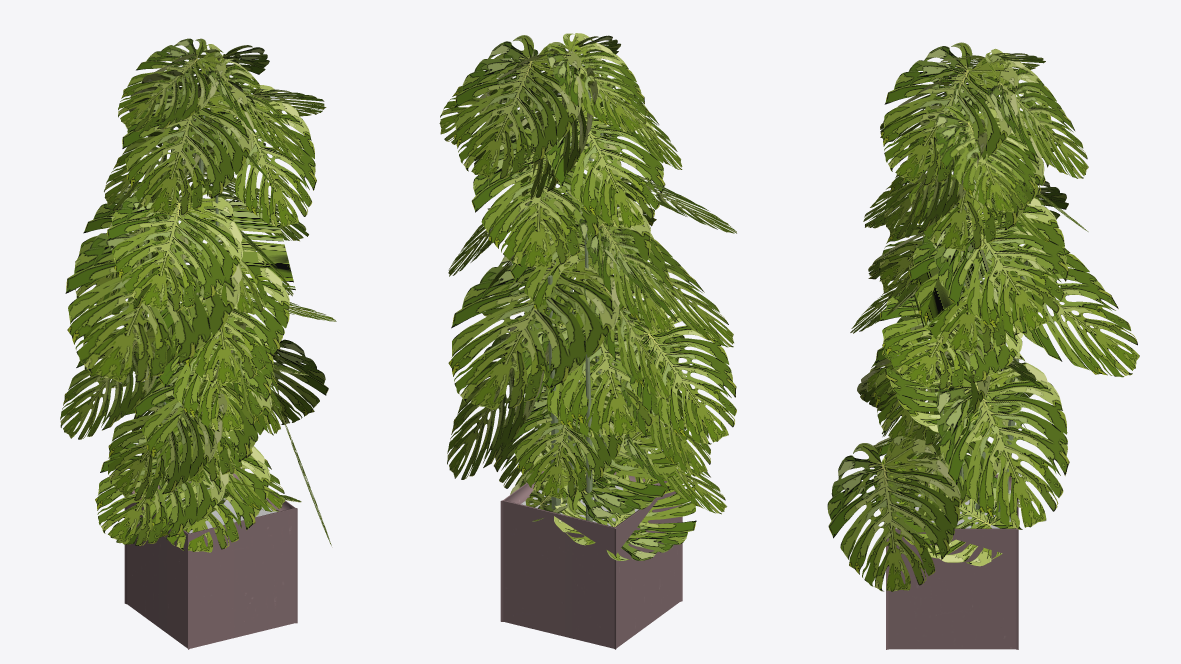
File: Plant.fbx
The picture shows the model from 3 angles, left to right: view 1: azimuth 30°, elevation 25°; view 2: azimuth 150°, elevation 25°; view 3: azimuth 270°, elevation 25°; orthographic projection. The views are drawn at different scales.
Parts seen in each view (by area): view 1: pCube1, pPlane24, pPlane23, pPlane22, pPlane38, pPlane34, pPlane26, pPlane39, pPlane41, pPlane27, pPlane25, pPlane35 (+14 smaller); view 2: pCube1, pPlane13, pPlane32, pPlane30, pPlane35, pPlane33, pPlane10, pPlane2, pPlane14, pPlane41, pPlane7, pPlane36 (+17 smaller); view 3: pPlane7, pCube1, pPlane9, pPlane19, pPlane40, pPlane13, pPlane15, pPlane31, pPlane32, pPlane29, pPlane21, pPlane34 (+15 smaller).
Boxes of the visible parts, <box> form: pCube1: <box>124,467,297,649</box>; pPlane24: <box>65,215,242,383</box>; pPlane23: <box>107,179,242,311</box>; pPlane22: <box>122,76,253,216</box>; pPlane38: <box>108,369,227,500</box>; pPlane34: <box>211,84,316,227</box>; pPlane26: <box>158,249,289,383</box>; pPlane39: <box>95,424,230,545</box>; pPlane41: <box>118,38,225,131</box>; pPlane27: <box>134,342,271,484</box>; pPlane25: <box>153,300,273,431</box>; pPlane35: <box>60,320,168,439</box>; pCube1: <box>500,469,682,649</box>; pPlane13: <box>448,241,620,410</box>; pPlane32: <box>453,35,583,179</box>; pPlane30: <box>471,127,611,268</box>; pPlane35: <box>623,299,736,444</box>; pPlane33: <box>546,95,665,228</box>; pPlane10: <box>511,379,624,499</box>; pPlane2: <box>533,386,687,519</box>; pPlane14: <box>542,286,679,437</box>; pPlane41: <box>547,33,647,132</box>; pPlane7: <box>447,315,549,479</box>; pPlane36: <box>579,205,675,333</box>; pPlane7: <box>936,346,1069,529</box>; pCube1: <box>886,474,1018,649</box>; pPlane9: <box>827,436,960,591</box>; pPlane19: <box>881,42,1018,185</box>; pPlane40: <box>932,192,1069,333</box>; pPlane13: <box>983,226,1139,377</box>; pPlane15: <box>880,286,1023,389</box>; pPlane31: <box>935,105,1035,212</box>; pPlane32: <box>982,48,1088,178</box>; pPlane29: <box>909,207,1054,354</box>; pPlane21: <box>904,108,1044,251</box>; pPlane34: <box>884,105,987,238</box>.
Size of the model in its own units: 0.3224 by 0.5303 by 0.2926.
